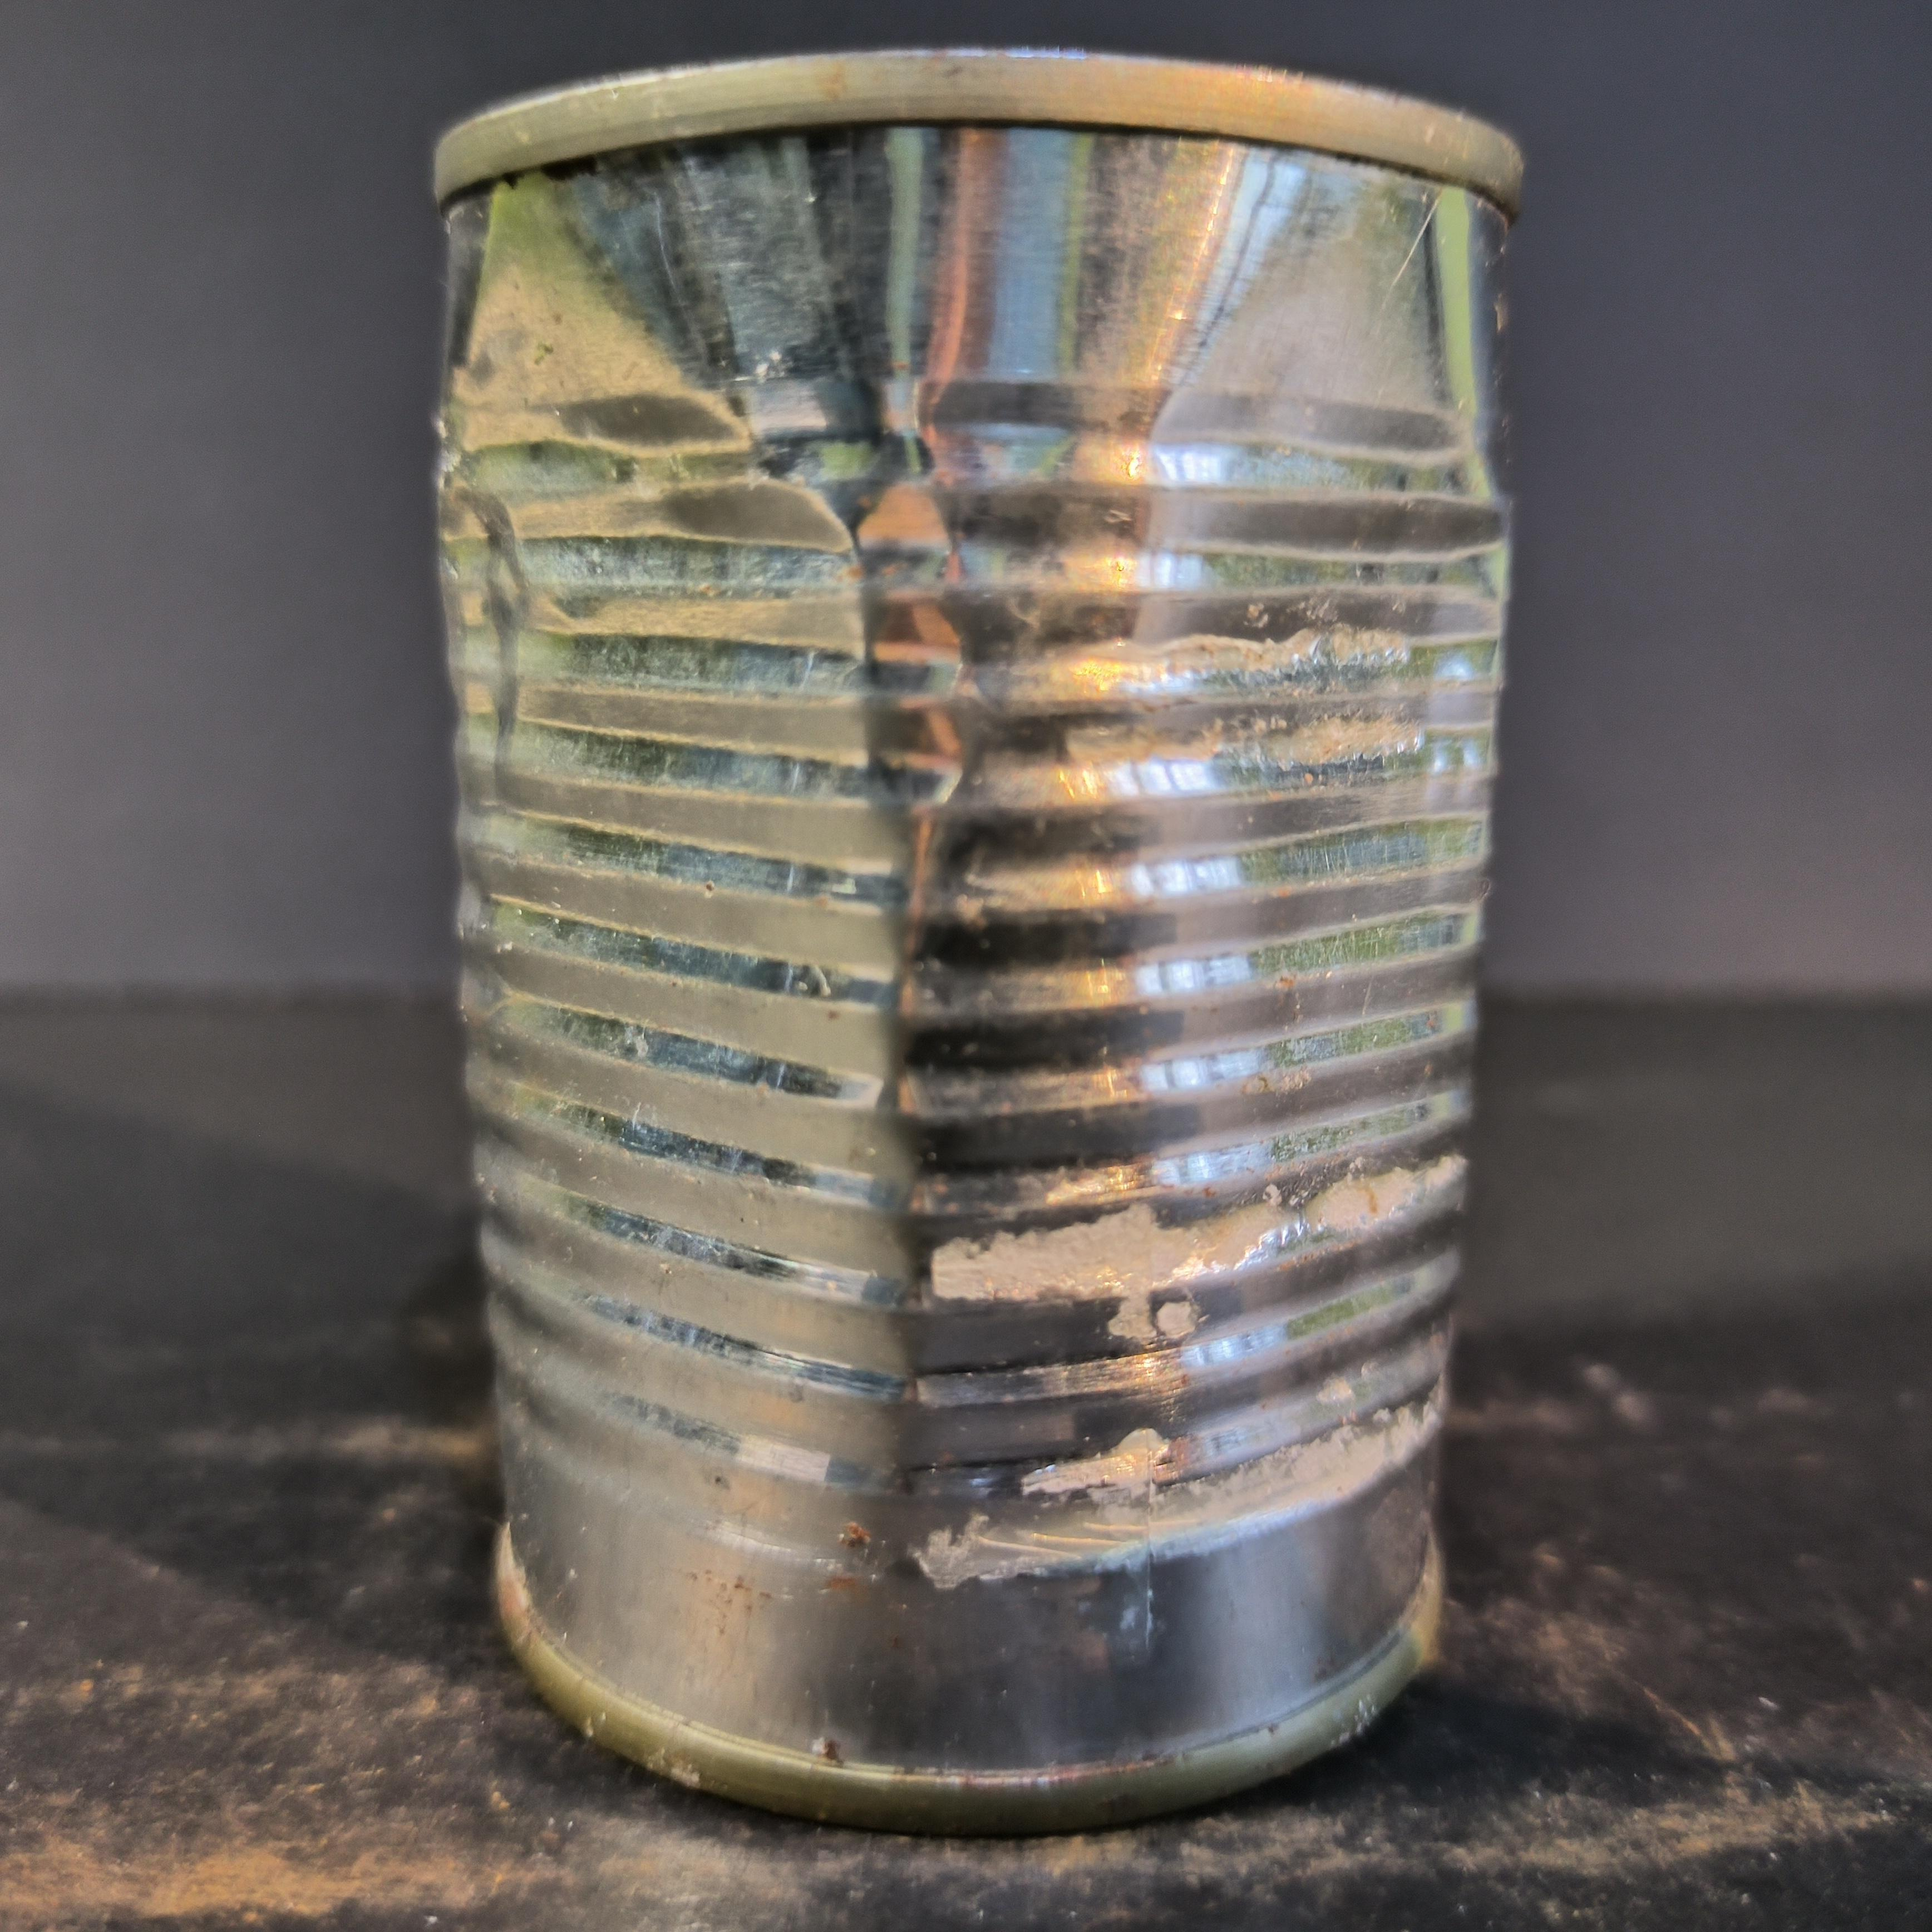Dented: (375, 9, 1539, 1822)
